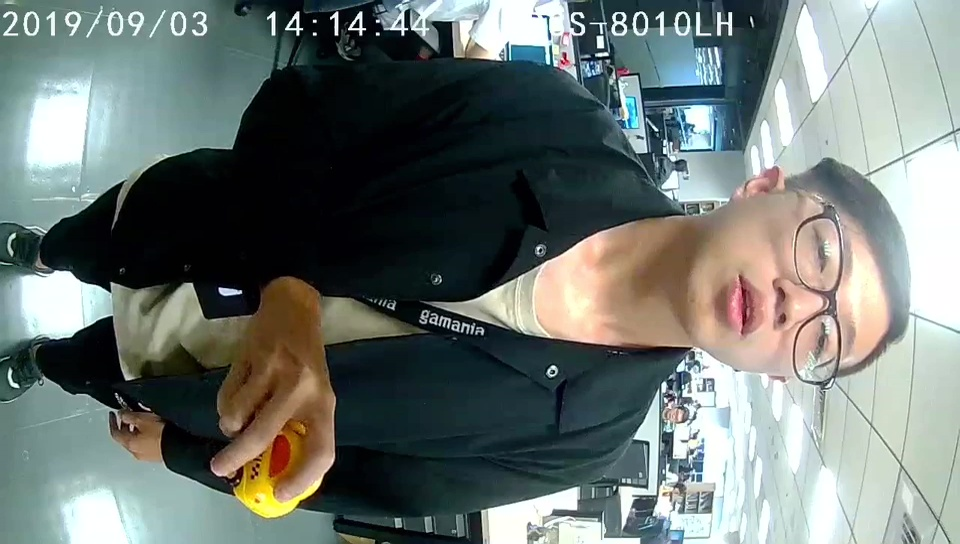car: (231, 420, 322, 515)
